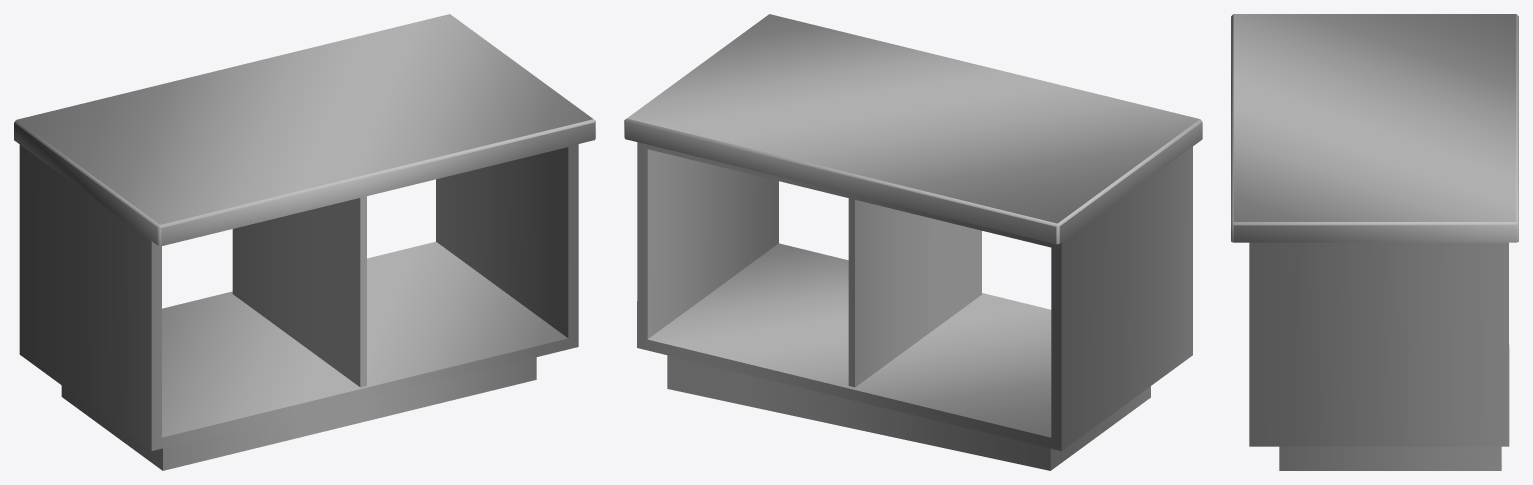
Rendered from Kitchen_tabla_01.fbx.
The picture shows the model from 3 angles, left to right: view 1: azimuth 30°, elevation 25°; view 2: azimuth 150°, elevation 25°; view 3: azimuth 270°, elevation 25°; orthographic projection.
Visible parts, largest first — view 1: kitchen_table_01; view 2: kitchen_table_01; view 3: kitchen_table_01.
Boxes of the visible parts, x1,y1,x2,y2 form: kitchen_table_01: [14, 14, 595, 470]; kitchen_table_01: [624, 14, 1202, 470]; kitchen_table_01: [1231, 14, 1518, 470].
Size of the model in its own units: 2.33 by 1.37 by 1.34.
